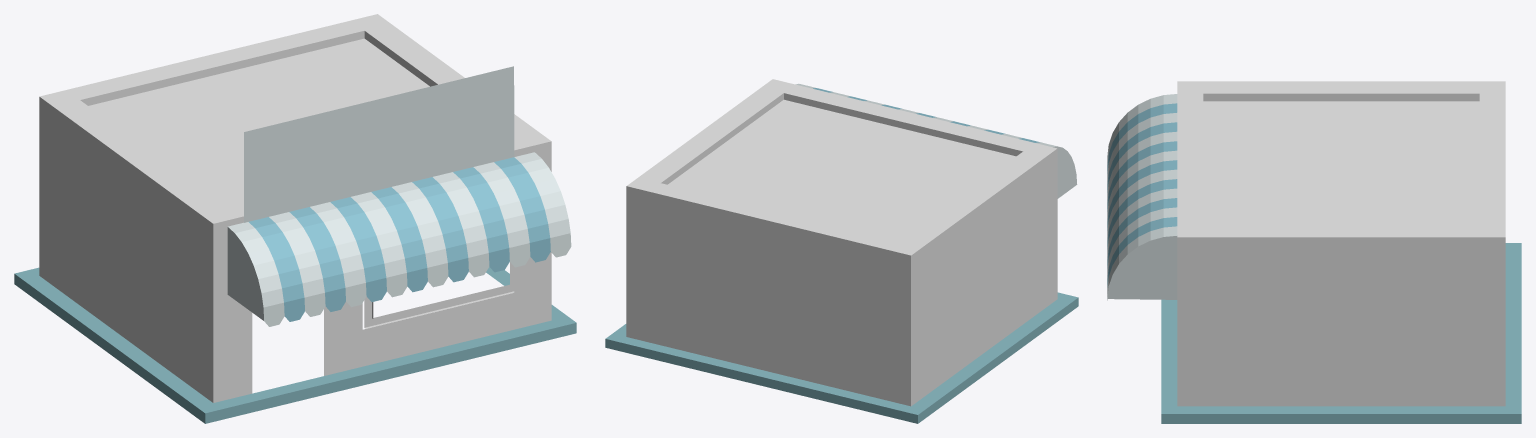
The model's file is store2.glb.
The picture shows the model from 3 angles, left to right: view 1: azimuth 30°, elevation 25°; view 2: azimuth 150°, elevation 25°; view 3: azimuth 270°, elevation 25°; orthographic projection. The views are drawn at different scales.
Parts seen in each view (by area): view 1: store, Cylinder, Cube; view 2: store, Cylinder; view 3: store, Cylinder.
Boxes of the visible parts, x1,y1,x2,y2 form: store: [14, 14, 576, 423]; Cylinder: [227, 66, 571, 326]; Cube: [364, 262, 514, 328]; store: [605, 79, 1078, 423]; Cylinder: [795, 83, 1077, 198]; store: [1161, 81, 1521, 423]; Cylinder: [1107, 94, 1177, 300].
Size of what is drawn, in the model's own units: 4.95 by 3.51 by 5.07.
